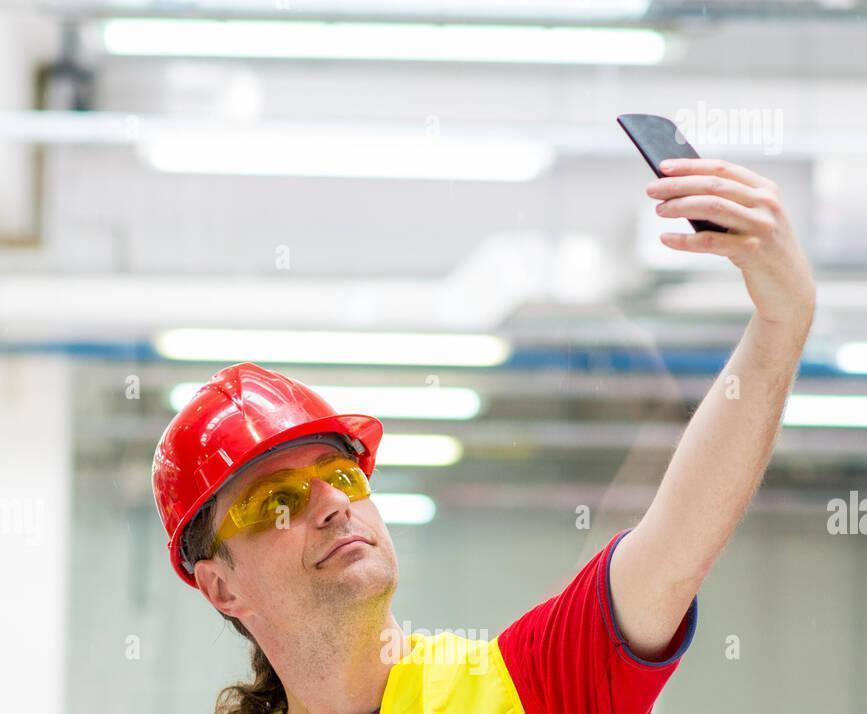helmet: (139, 360, 383, 586)
